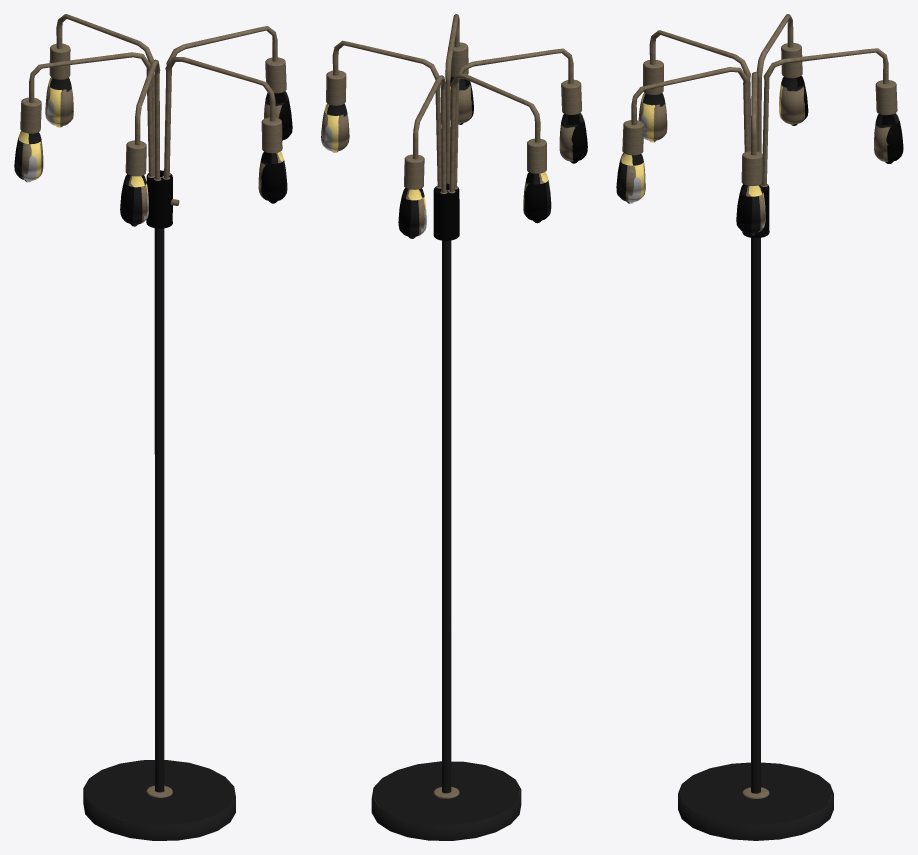
The model's file is abo-B073P25SXR.glb.
3 renders of one model, left to right at view 1: azimuth 30°, elevation 25°; view 2: azimuth 150°, elevation 25°; view 3: azimuth 270°, elevation 25°, orthographic. The views are drawn at different scales.
Bounding box in the file's own units: 0.599 × 1.72 × 0.599.
1 material, 1 textured.
